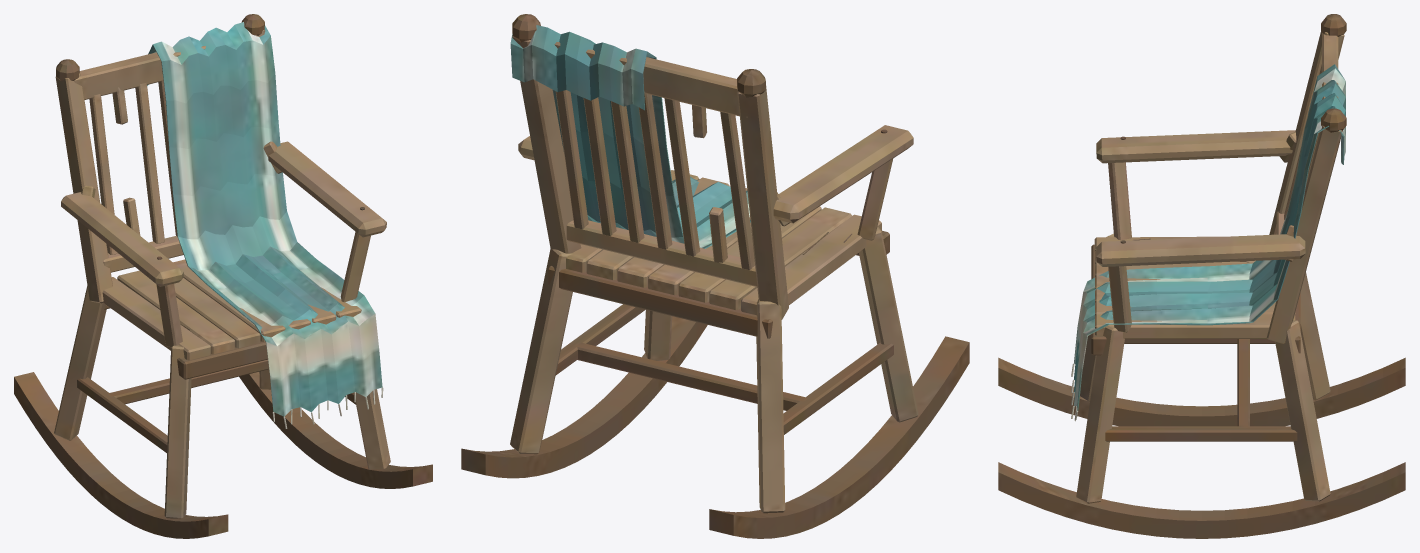
The model's file is A03_rocking_chair.glb.
The picture shows the model from 3 angles, left to right: view 1: azimuth 30°, elevation 25°; view 2: azimuth 150°, elevation 25°; view 3: azimuth 270°, elevation 25°; orthographic projection. The views are drawn at different scales.
Visible parts, largest first — view 1: Worn curved rocker; view 2: Worn curved rocker; view 3: Worn curved rocker.
Part boxes in pixels (box(x1,y1,x2,y2)): Worn curved rocker: box(14, 14, 432, 538); Worn curved rocker: box(461, 14, 969, 538); Worn curved rocker: box(998, 14, 1405, 538).
Size of the model in its own units: 0.604 by 1 by 0.88.
5 materials, 5 textured.
